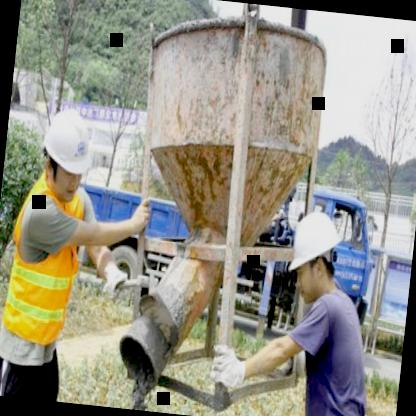helmet: (31, 97, 101, 204), (280, 202, 350, 308)
